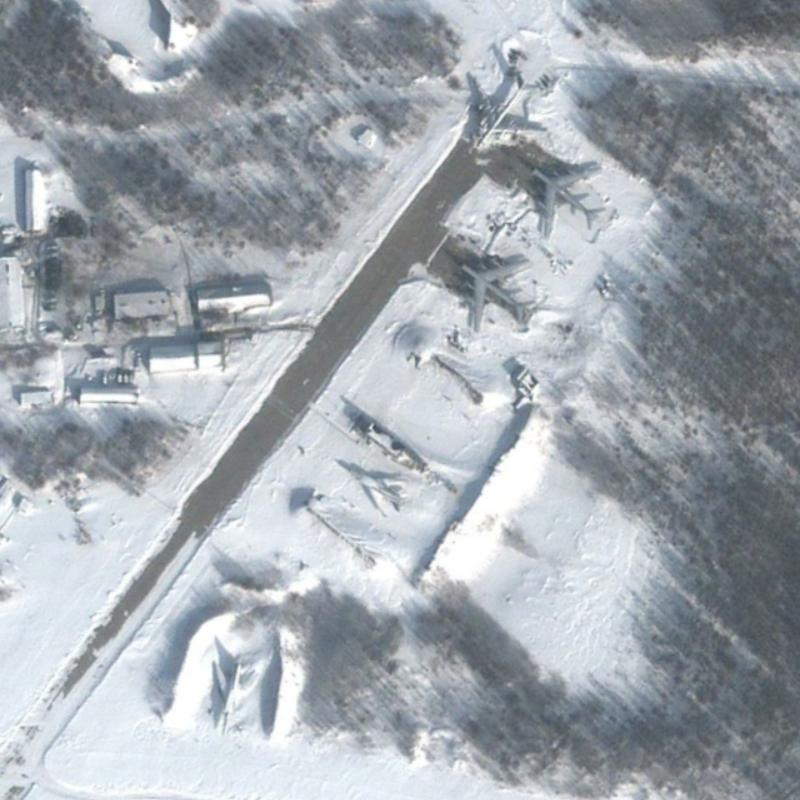A12: (329, 457, 413, 520), (205, 655, 262, 735)
A17: (466, 67, 549, 153), (454, 255, 538, 333), (526, 162, 603, 241)
